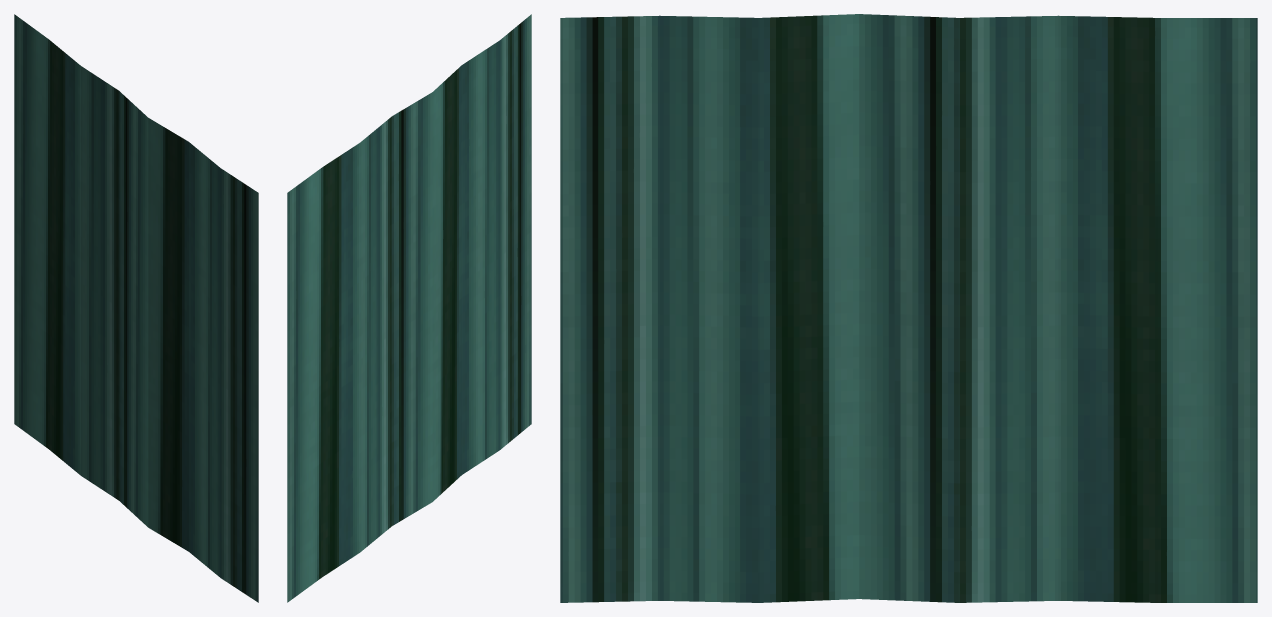
Rendered from SM_BedCurtain.fbx.
3 renders of one model, left to right at view 1: azimuth 30°, elevation 25°; view 2: azimuth 150°, elevation 25°; view 3: azimuth 270°, elevation 25°, orthographic. The views are drawn at different scales.
Parts seen in each view (by area): view 1: SM_Bed_Curtain; view 2: SM_Bed_Curtain; view 3: SM_Bed_Curtain.
Boxes of the visible parts, bbox=[...] form: SM_Bed_Curtain: bbox=[14, 14, 258, 602]; SM_Bed_Curtain: bbox=[287, 14, 531, 602]; SM_Bed_Curtain: bbox=[560, 14, 1257, 602].
Bounding box in the file's own units: 3.53 × 244 × 264.
